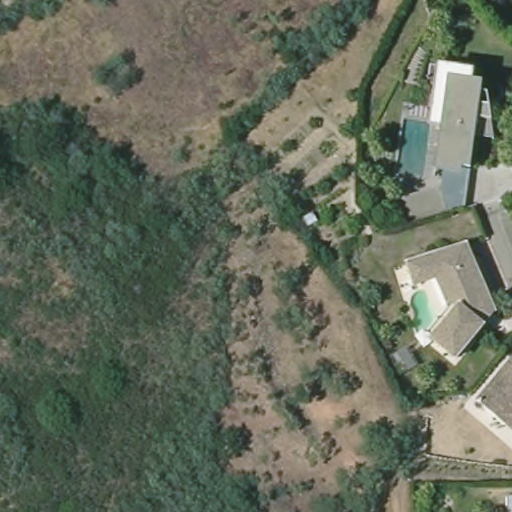pool: (395, 115, 430, 191), (408, 287, 437, 335)
